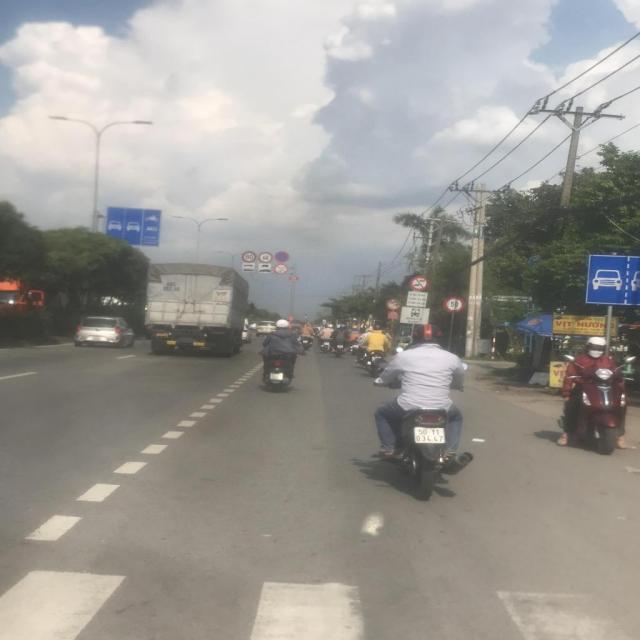cam_cac_loai_xe_3_banh: (387, 299, 400, 310)
cam_dung_xe_va_do_xe: (274, 252, 290, 262)
cam_o_to_tai_va_xe_khach: (410, 276, 429, 291)
cam_xe_2_banh_va_xe_3_banh_co_dong_co: (274, 263, 288, 274)
khac: (400, 306, 430, 324), (406, 290, 428, 308), (242, 263, 255, 268), (258, 264, 272, 268), (257, 269, 271, 273), (242, 268, 254, 272)
lan_duong_cho_tung_xe_theo_vach_ke_duong: (586, 255, 639, 306), (106, 207, 161, 247)
toc_do_toi_da_50: (443, 296, 465, 313)
toc_do_toi_da_60: (258, 252, 273, 263)
toc_do_toi_da_80: (242, 251, 257, 263)
